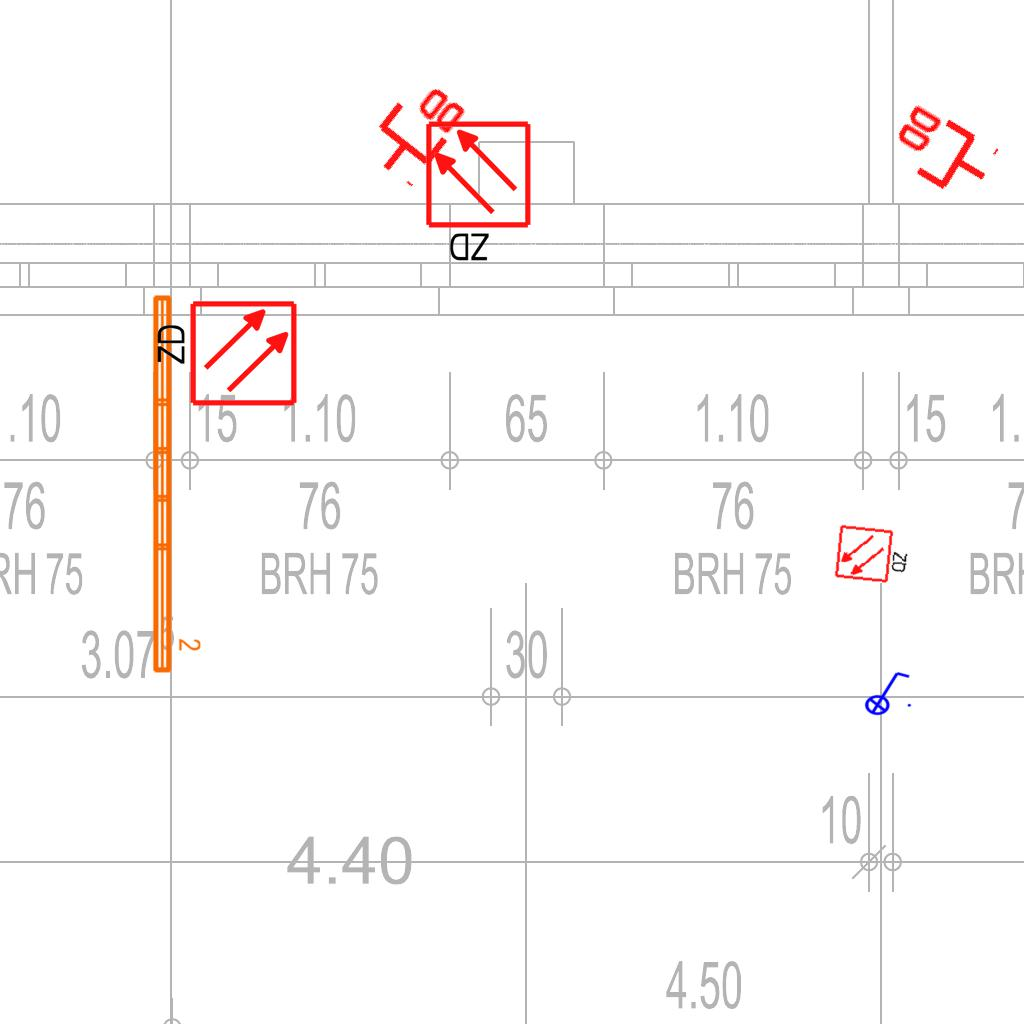Ambulanz_Pendelleuchte_LED: (147, 290, 203, 677)
Ausschalter_beleuchtet: (858, 668, 914, 716)
Datenanschluss_zweifach: (355, 67, 474, 192), (879, 97, 1004, 210)
ZD_Melder_in_Zwischendecke_mit_Revisionsoeffnung_mind_40_x_40_cm: (423, 119, 537, 268), (150, 298, 299, 412), (833, 521, 914, 587)
